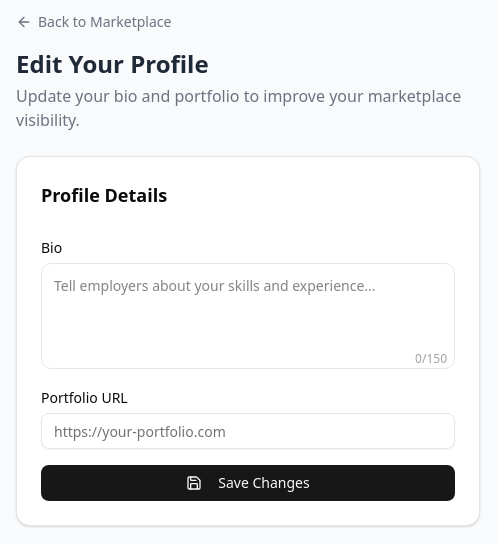
Test: MarketplaceEditPage › should update bio character counter live
Type "Hello world" into the text box with test id "bio-input" at (248, 316), box [41,263,455,369]
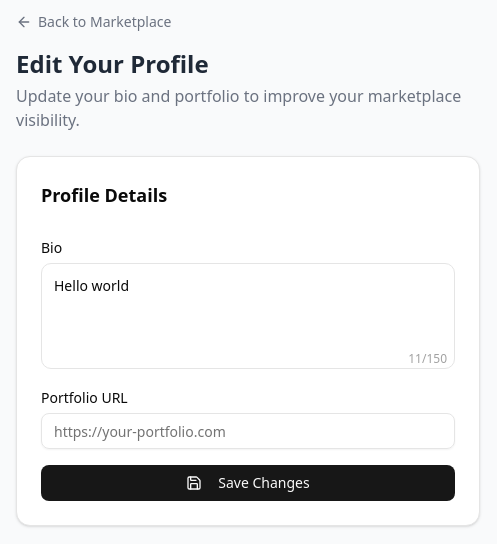
Now the text with test id "bio-counter" reads "11/150", box [408,351,447,367]
